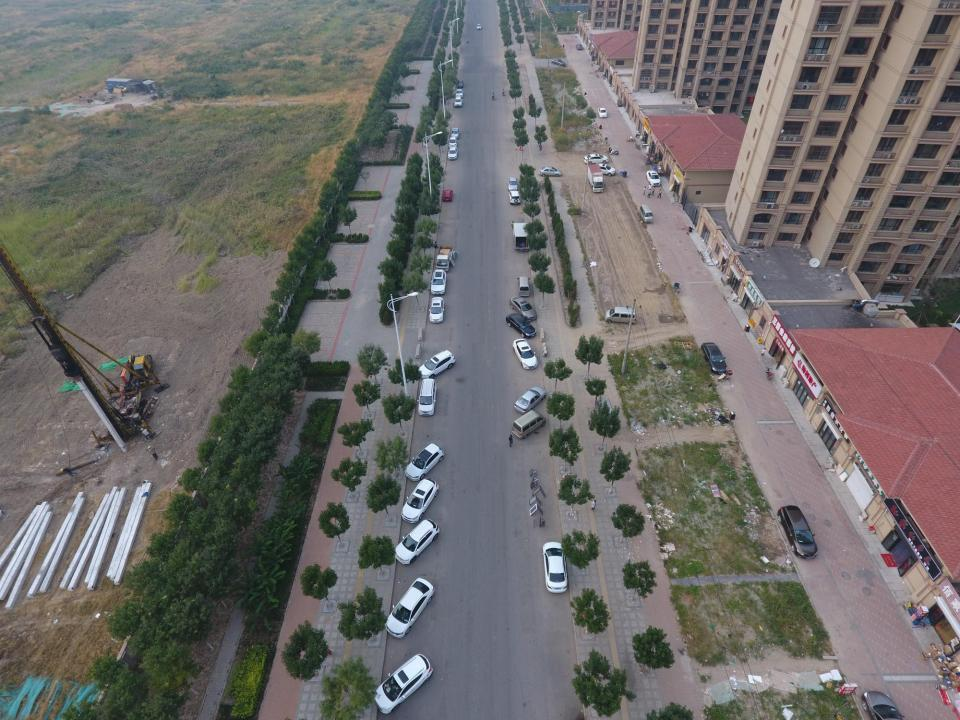car: (373, 652, 434, 715), (384, 576, 434, 638), (776, 505, 818, 560), (393, 518, 440, 565), (401, 477, 439, 524), (404, 442, 444, 483), (542, 541, 568, 594), (861, 690, 906, 720), (417, 350, 457, 380), (700, 342, 728, 374), (511, 338, 539, 369), (514, 386, 546, 413), (506, 312, 537, 338), (509, 294, 537, 321), (429, 268, 447, 295), (428, 296, 445, 324), (594, 162, 616, 178), (583, 153, 609, 164), (538, 166, 562, 177), (646, 170, 661, 187), (509, 190, 520, 206), (447, 146, 458, 160), (507, 176, 518, 190), (550, 57, 566, 66), (442, 189, 453, 202), (450, 127, 460, 140), (453, 96, 463, 108), (448, 136, 457, 149), (597, 107, 608, 117), (455, 87, 463, 98), (456, 78, 463, 88), (476, 23, 482, 30), (576, 44, 583, 50)
truck: (434, 245, 458, 272), (587, 164, 606, 193), (513, 222, 530, 252)
van: (510, 410, 546, 439), (417, 378, 437, 417), (604, 306, 636, 326), (516, 276, 531, 297), (638, 204, 654, 223)
